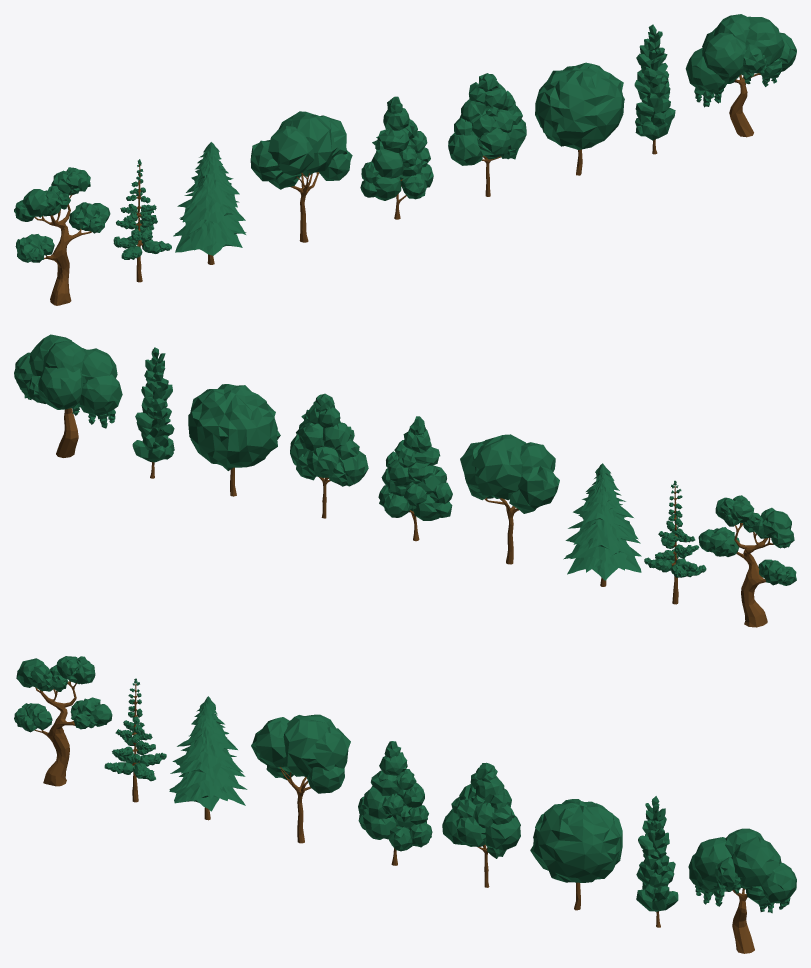
File: trees rework.fbx
The picture shows the model from 3 angles, top to bottom: view 1: azimuth 30°, elevation 25°; view 2: azimuth 150°, elevation 25°; view 3: azimuth 330°, elevation 25°; orthographic projection.
Parts seen in each view (by area): view 1: Tree_09.001, Tree_07.001, Tree_04.001, Tree_01.001, Tree_06.001, Tree_05.001, Tree_03.001, Tree_08.001, Tree_02.001; view 2: Tree_09.001, Tree_07.001, Tree_04.001, Tree_01.001, Tree_05.001, Tree_03.001, Tree_06.001, Tree_08.001, Tree_02.001; view 3: Tree_09.001, Tree_07.001, Tree_04.001, Tree_01.001, Tree_05.001, Tree_03.001, Tree_06.001, Tree_08.001, Tree_02.001.
Part boxes in pixels (x1,y1,x2,y2): Tree_09.001: (685, 14, 796, 137); Tree_07.001: (535, 62, 624, 175); Tree_04.001: (250, 111, 352, 242); Tree_01.001: (14, 167, 110, 305); Tree_06.001: (448, 73, 526, 196); Tree_05.001: (360, 96, 433, 219); Tree_03.001: (173, 142, 246, 264); Tree_08.001: (634, 24, 675, 154); Tree_02.001: (113, 159, 171, 282); Tree_09.001: (14, 334, 122, 457); Tree_07.001: (188, 384, 280, 496); Tree_04.001: (460, 434, 559, 564); Tree_01.001: (698, 495, 796, 627); Tree_05.001: (378, 416, 452, 541); Tree_03.001: (563, 463, 641, 586); Tree_06.001: (290, 393, 368, 518); Tree_08.001: (132, 347, 174, 478); Tree_02.001: (644, 480, 706, 604); Tree_09.001: (688, 828, 796, 953); Tree_07.001: (530, 799, 622, 910); Tree_04.001: (251, 714, 350, 843); Tree_01.001: (14, 656, 112, 786); Tree_05.001: (358, 741, 432, 865); Tree_03.001: (169, 696, 247, 820); Tree_06.001: (442, 762, 520, 887); Tree_08.001: (636, 796, 678, 927); Tree_02.001: (104, 678, 166, 802).
Size of the model in its own units: 931 by 149 by 91.31.
